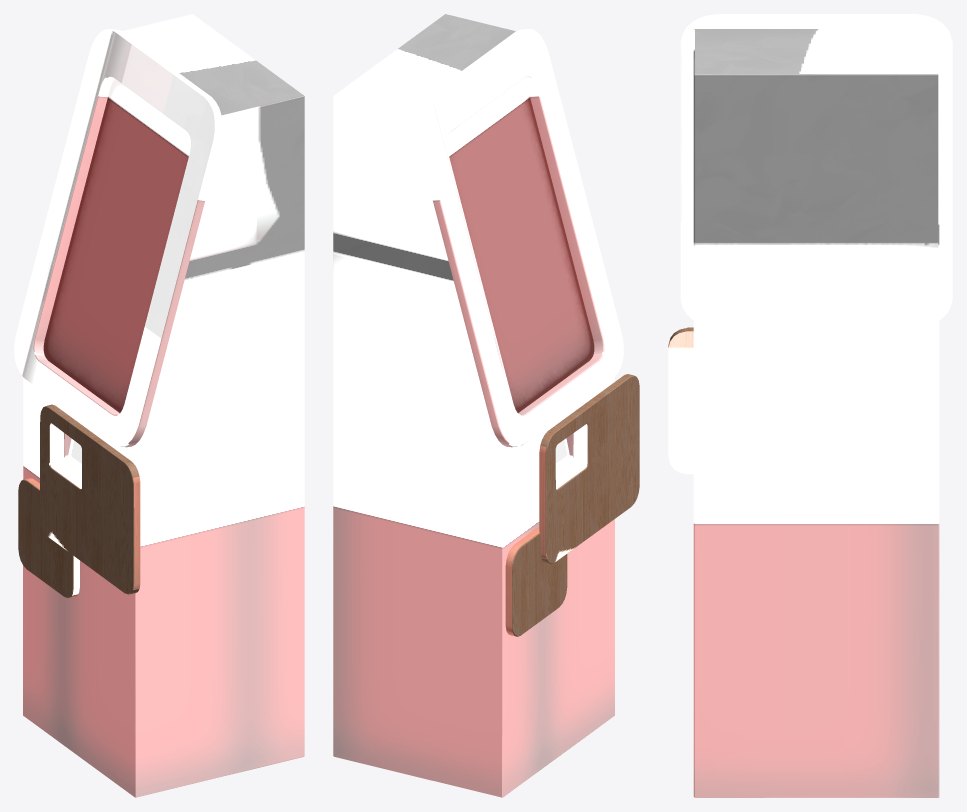
The model's file is SM_TicketMachine.fbx.
The picture shows the model from 3 angles, left to right: view 1: azimuth 30°, elevation 25°; view 2: azimuth 150°, elevation 25°; view 3: azimuth 270°, elevation 25°; orthographic projection. The views are drawn at different scales.
Parts seen in each view (by area): view 1: SM_TicketMachine_LOD0; view 2: SM_TicketMachine_LOD0; view 3: SM_TicketMachine_LOD0.
Boxes of the visible parts, x1,y1,x2,y2 form: SM_TicketMachine_LOD0: (14,14,304,797); SM_TicketMachine_LOD0: (333,14,639,797); SM_TicketMachine_LOD0: (668,14,952,797).
Size of the model in its own units: 37.78 by 46.23 by 132.
